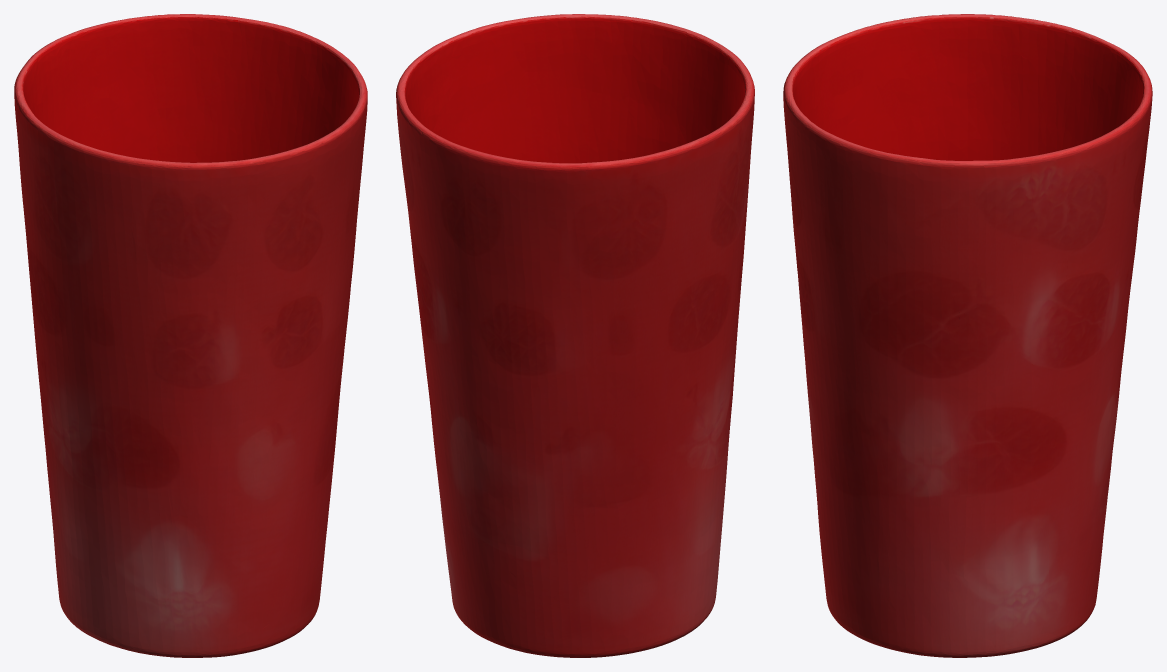
The picture shows the model from 3 angles, left to right: view 1: azimuth 30°, elevation 25°; view 2: azimuth 150°, elevation 25°; view 3: azimuth 270°, elevation 25°; orthographic projection.
Parts seen in each view (by area): view 1: geometry_0; view 2: geometry_0; view 3: geometry_0.
Part boxes in pixels (x1,y1,x2,y2): geometry_0: (14,14,367,657); geometry_0: (396,14,754,657); geometry_0: (783,14,1152,657).
Bounding box in the file's own units: 0.1114 × 0.1798 × 0.1154.
Materials: 1 (1 with a texture image).
